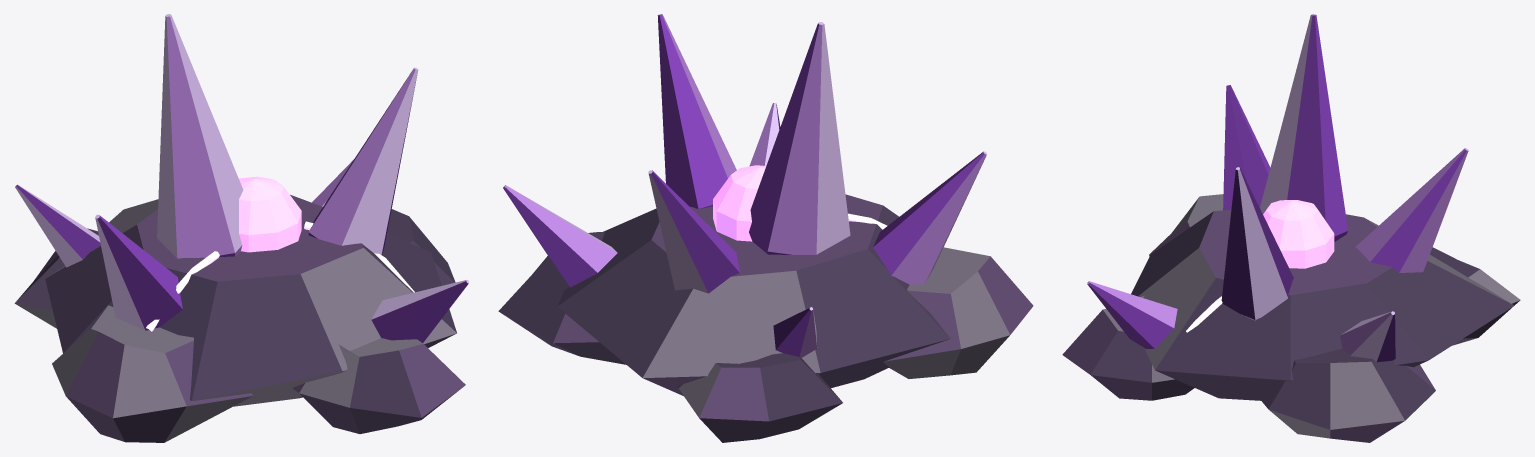
The model's file is Twilight_Crystal_Ore.glb.
3 renders of one model, left to right at view 1: azimuth 30°, elevation 25°; view 2: azimuth 150°, elevation 25°; view 3: azimuth 270°, elevation 25°, orthographic. The views are drawn at different scales.
Parts seen in each view (by area): view 1: GAME | main fractured basalt, GAME | shoulder 1, GAME | amethyst 01, GAME | shoulder 3, GAME | amethyst 02, GAME | amethyst 03, GAME | arcane heart, GAME | amethyst 07, GAME | amethyst 06, GAME | shoulder 4, GAME | shoulder 2, GAME | luminous fissure 1; view 2: GAME | main fractured basalt, GAME | amethyst 01, GAME | shoulder 1, GAME | shoulder 4, GAME | amethyst 02, GAME | amethyst 03, GAME | amethyst 04, GAME | shoulder 2, GAME | amethyst 05, GAME | arcane heart, GAME | amethyst 06, GAME | amethyst 07; view 3: GAME | main fractured basalt, GAME | shoulder 2, GAME | amethyst 01, GAME | amethyst 02, GAME | amethyst 04, GAME | shoulder 3, GAME | arcane heart, GAME | amethyst 03, GAME | amethyst 07, GAME | amethyst 05, GAME | shoulder 4, GAME | shoulder 1.
Boxes of the visible parts, x1=… form: GAME | main fractured basalt: x1=45, y1=194, x2=456, y2=406; GAME | shoulder 1: x1=52, y1=305, x2=253, y2=442; GAME | amethyst 01: x1=157, y1=14, x2=243, y2=258; GAME | shoulder 3: x1=292, y1=338, x2=465, y2=433; GAME | amethyst 02: x1=308, y1=67, x2=418, y2=255; GAME | amethyst 03: x1=95, y1=214, x2=182, y2=330; GAME | arcane heart: x1=239, y1=176, x2=301, y2=252; GAME | amethyst 07: x1=371, y1=280, x2=469, y2=342; GAME | amethyst 06: x1=15, y1=184, x2=100, y2=267; GAME | shoulder 4: x1=14, y1=228, x2=98, y2=328; GAME | shoulder 2: x1=387, y1=209, x2=455, y2=285; GAME | luminous fissure 1: x1=146, y1=251, x2=219, y2=331; GAME | main fractured basalt: x1=557, y1=194, x2=950, y2=395; GAME | amethyst 01: x1=749, y1=22, x2=850, y2=254; GAME | shoulder 1: x1=883, y1=247, x2=1033, y2=378; GAME | shoulder 4: x1=677, y1=353, x2=842, y2=442; GAME | amethyst 02: x1=657, y1=14, x2=736, y2=208; GAME | amethyst 03: x1=873, y1=151, x2=986, y2=284; GAME | amethyst 04: x1=648, y1=170, x2=739, y2=293; GAME | shoulder 2: x1=498, y1=232, x2=626, y2=364; GAME | amethyst 05: x1=503, y1=185, x2=617, y2=287; GAME | arcane heart: x1=713, y1=165, x2=766, y2=241; GAME | amethyst 06: x1=773, y1=307, x2=817, y2=357; GAME | amethyst 07: x1=749, y1=103, x2=780, y2=166; GAME | main fractured basalt: x1=1131, y1=207, x2=1514, y2=400; GAME | shoulder 2: x1=1248, y1=348, x2=1435, y2=442; GAME | amethyst 01: x1=1260, y1=14, x2=1348, y2=241; GAME | amethyst 02: x1=1221, y1=167, x2=1293, y2=320; GAME | amethyst 04: x1=1355, y1=148, x2=1468, y2=272; GAME | shoulder 3: x1=1062, y1=295, x2=1194, y2=400; GAME | arcane heart: x1=1263, y1=200, x2=1334, y2=268; GAME | amethyst 03: x1=1223, y1=85, x2=1270, y2=210; GAME | amethyst 07: x1=1087, y1=281, x2=1177, y2=348; GAME | amethyst 05: x1=1340, y1=311, x2=1395, y2=362; GAME | shoulder 4: x1=1430, y1=247, x2=1520, y2=345; GAME | shoulder 1: x1=1149, y1=194, x2=1223, y2=256.
Bounding box in the file's own units: 2.95 × 2.35 × 3.01.
